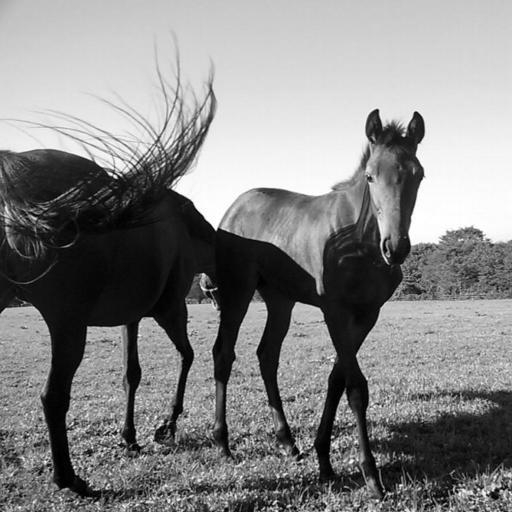horse: (1, 32, 222, 496), (210, 108, 425, 500)
